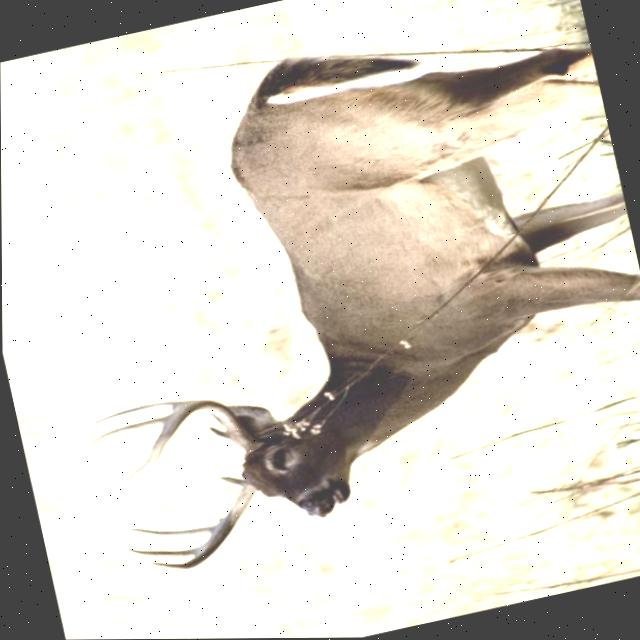L-G1: (216, 475, 246, 486)
L-G2: (129, 523, 215, 537)
L-G3: (125, 546, 197, 557)
R-F: (114, 398, 265, 490)
R-G1: (208, 426, 229, 439)
R-G2: (75, 399, 182, 435)
R-G3: (86, 414, 167, 446)
